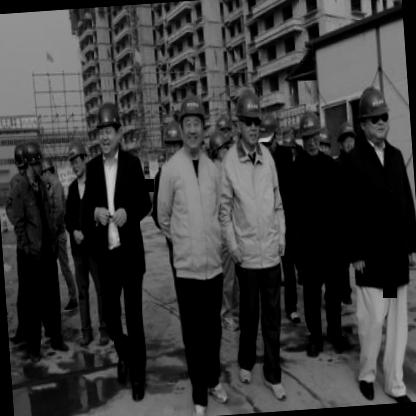helmet: (356, 84, 393, 146), (176, 90, 209, 152), (93, 100, 126, 158), (233, 88, 264, 146), (296, 110, 325, 158), (260, 108, 284, 162), (208, 128, 232, 172), (66, 136, 90, 180), (160, 119, 184, 162), (21, 136, 41, 180), (334, 120, 358, 156), (316, 121, 336, 164), (39, 152, 58, 188), (12, 144, 27, 186)
